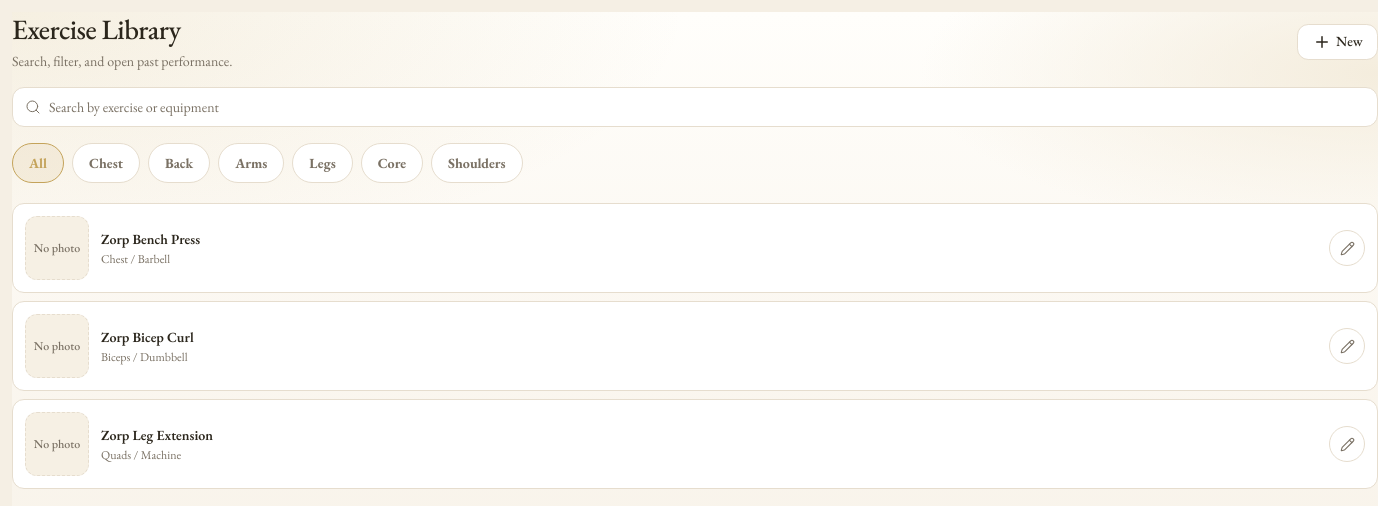
Test: ExerciseLibrary buttons › arms and legs chips include form-specific muscle groups
This screenshot has width=1378, height=506.
Click the button "arms": (251, 163) 218,143 -> 284,183
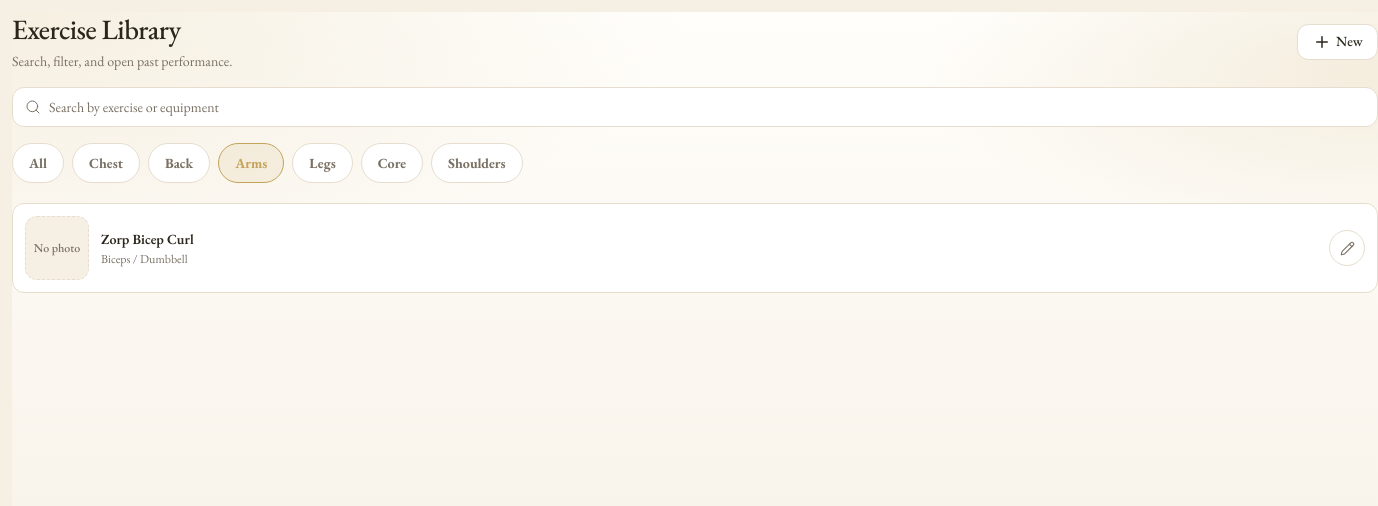
Expected: the heading "Zorp Bicep Curl" is shown, 101,229 -> 194,249
Expected: the link "Zorp Bench Press" is gone
Expected: the link "Zorp Leg Extension" is gone
Click the button "legs": (323, 163) 292,143 -> 353,183
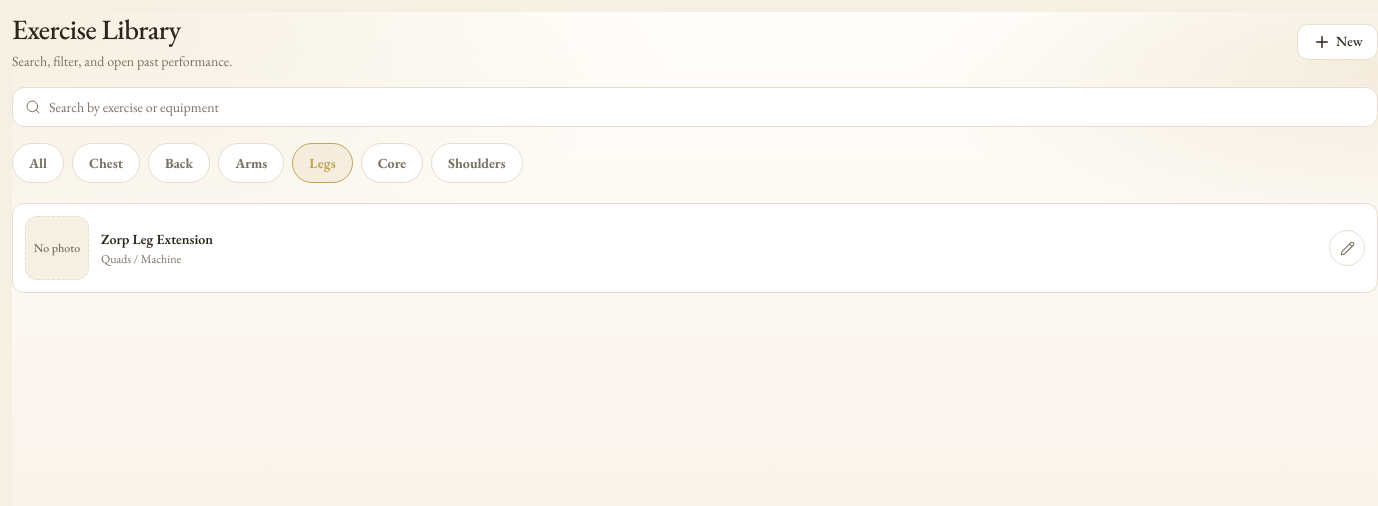
Expected: the heading "Zorp Leg Extension" is shown, 101,229 -> 213,249
Expected: the link "Zorp Bicep Curl" is gone
